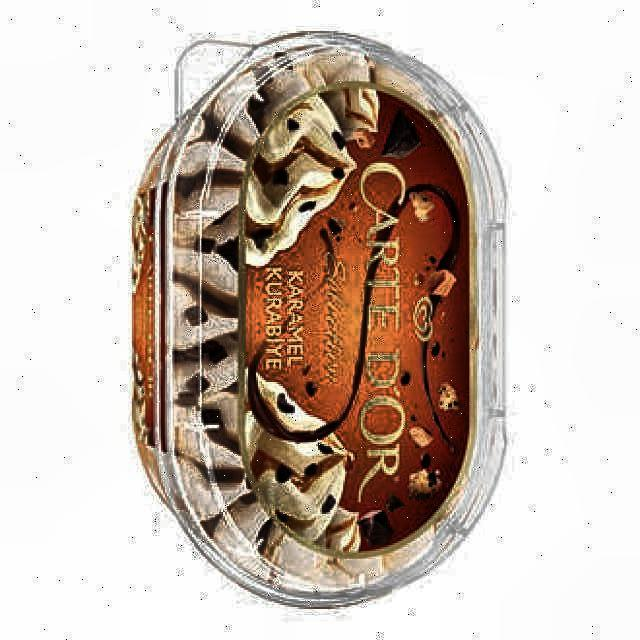plastic: (131, 29, 507, 608)
